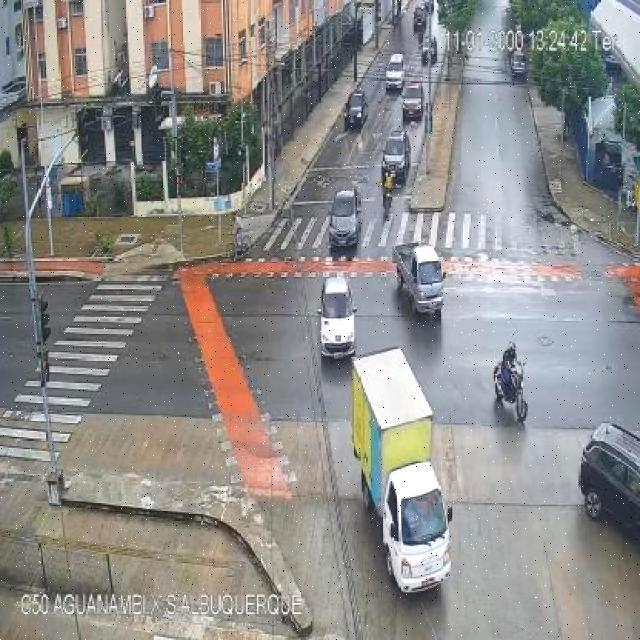Car: (579, 422, 640, 536), (317, 276, 358, 360), (328, 192, 361, 247), (382, 131, 411, 183), (344, 91, 368, 128), (402, 80, 423, 120), (509, 51, 527, 73)
Cycle: (492, 363, 528, 420), (226, 232, 254, 262), (382, 186, 394, 218)
Truck: (350, 344, 459, 592), (393, 240, 448, 318)
Van: (385, 54, 407, 88)
